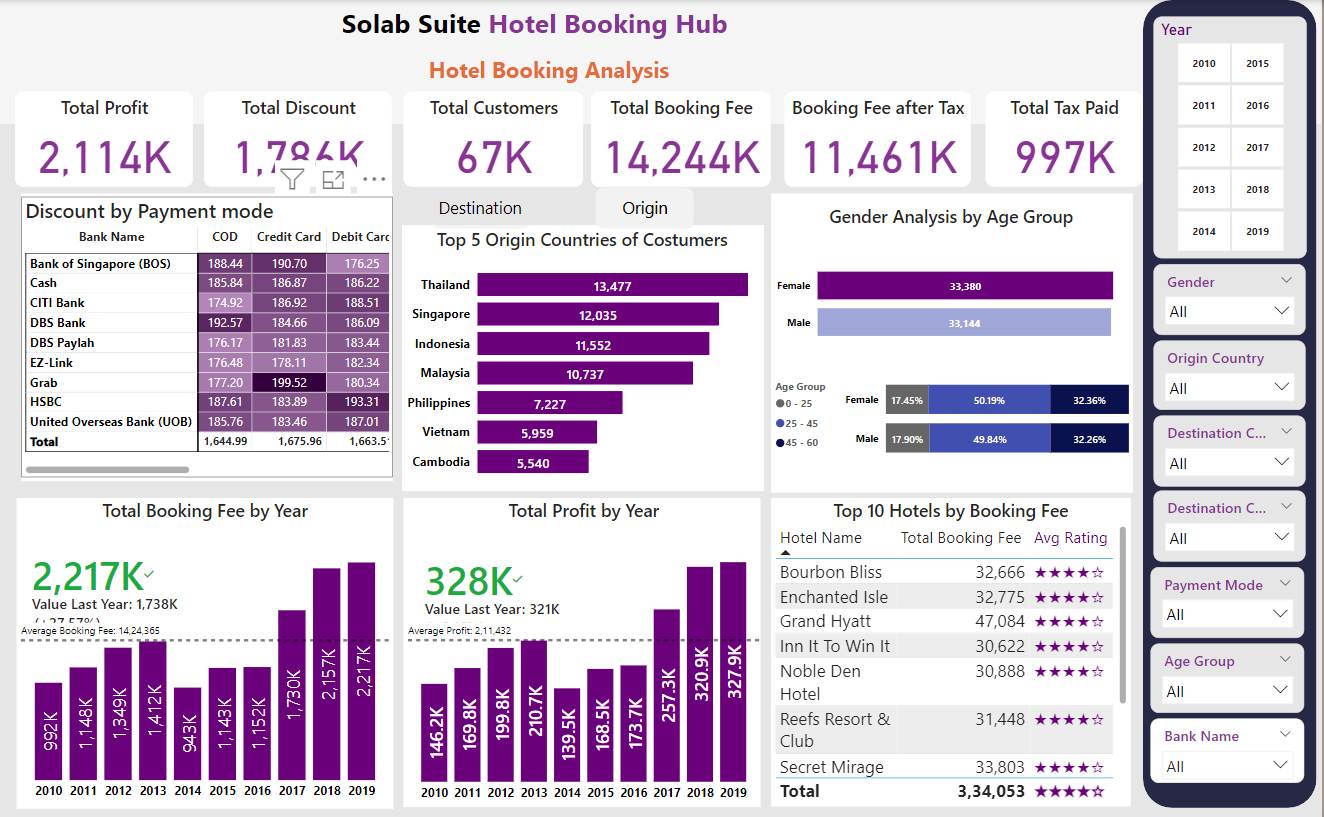

Layout of this report page (visuals, bound fields, positions):
{"tool":"powerbi","page":{"name":"Page 1","canvas":[1600,1000],"ordinal":0},"visuals":[{"type":"shape","box":[0,0,1600,150],"z":0},{"type":"shape","title":"Origin","box":[719.4,226,119,50],"z":0,"group":"g1"},{"type":"textbox","box":[408.3,0,511.8,110.7],"z":1000},{"type":"shape","title":"Origin","box":[720,226,120,50],"z":1000,"group":"g2"},{"type":"card","title":"Total Profit","fields":{"Values":["DAXMeasures.Total Profit"]},"box":[17.5,110,215,115],"z":2000},{"type":"shape","title":"Destination","box":[520,226,120,50],"z":2000,"group":"g2"},{"type":"shape","box":[1382.5,0,210,977.5],"z":3000},{"type":"slicer","fields":{"Values":["Order Database.Gender"]},"box":[1396,320,184,86],"z":4000},{"type":"card","title":"Total Discount","fields":{"Values":["DAXMeasures.Total Discount"]},"box":[247.5,110,227.5,115],"z":5000},{"type":"card","title":"Total Booking Fee","fields":{"Values":["DAXMeasures.Total Booking Fee"]},"box":[715,110,217.5,115],"z":6000},{"type":"card","title":"Booking Fee after Tax","fields":{"Values":["DAXMeasures.Total Booking Fee after Tax"]},"box":[950,110,225,115],"z":7000},{"type":"card","title":"Total Tax Paid","fields":{"Values":["DAXMeasures.Total Tax Paid"]},"box":[1192.5,110,190,115],"z":8000},{"type":"card","title":"Total Customers","fields":{"Values":["DAXMeasures.Total Customers"]},"box":[487.5,110,217.5,115],"z":9000},{"type":"slicer","fields":{"Values":["Order Database.Origin Country"]},"box":[1396,412,184,84],"z":10000},{"type":"slicer","fields":{"Values":["Order Database.Destination Country"]},"box":[1396,502,184,86],"z":11000},{"type":"slicer","fields":{"Values":["Order Database.Age Group"]},"box":[1392,778,186,84],"z":12000},{"type":"slicer","fields":{"Values":["Order Database.Destination City"]},"box":[1396,594,184,86],"z":13000},{"type":"slicer","fields":{"Values":["Order Database.Payment Mode"]},"box":[1392,686,186,86],"z":14000},{"type":"shape","box":[932,234,438,362],"z":15000},{"type":"slicer","title":"Year","fields":{"Values":["Date Table.Date.Variation.Date Hierarchy.Year"]},"box":[1395,20,185,292.5],"z":16000},{"type":"shape","box":[20,602,456,376],"z":17000},{"type":"clusteredColumnChart","fields":{"Category":["Date Table.Date.Variation.Date Hierarchy.Year"],"Y":["DAXMeasures.Total Booking Fee"]},"box":[20,602,456,374],"z":18000},{"type":"shape","box":[488,602,432,374],"z":19000},{"type":"clusteredColumnChart","fields":{"Category":["Date Table.Date.Variation.Date Hierarchy.Year"],"Y":["DAXMeasures.Total Profit"]},"box":[488,602,436,376],"z":20000},{"type":"barChart","title":"Gender Analysis by Age Group","fields":{"Category":["Order Database.Gender"],"Y":["DAXMeasures.Total Customers"]},"box":[932,246,436,206],"z":21000},{"type":"hundredPercentStackedBarChart","fields":{"Category":["Order Database.Gender"],"Y":["DAXMeasures.Total Customers"],"Series":["Order Database.Age Group"]},"box":[932,410,438,186],"z":22000},{"type":"tableEx","title":"Top 10 Hotels by Booking Fee","fields":{"Values":["Order Database.Hotel Name","DAXMeasures.Total Booking Fee","DAXMeasures.Avg Rating star rating"]},"box":[932.1,602.8,435.1,373.3],"z":23000},{"type":"kpi","fields":{"TrendLine":["Date Table.Date.Variation.Date Hierarchy.Year"],"Indicator":["DAXMeasures.Total Booking Fee"],"Goal":["DAXMeasures.Total Booking Fee LY"]},"box":[25.4,653.4,275.9,99.8],"z":24000},{"type":"kpi","fields":{"TrendLine":["Date Table.Date.Variation.Date Hierarchy.Year"],"Indicator":["DAXMeasures.Total Profit"],"Goal":["DAXMeasures.Profit LY"]},"box":[500,658,250,94],"z":25000},{"type":"group","id":"g1","title":"Active Buttons","box":[520,226,318.4,50.2],"z":28000},{"type":"shape","title":"Main BG","box":[486,272,438,322],"z":29000},{"type":"group","id":"g2","title":"Inactive Buttons","box":[520,226,320,50],"z":30000},{"type":"barChart","title":"Top 5 Origin Countries of Costumers","fields":{"Category":["Order Database.Origin Country"],"Y":["DAXMeasures.Total Customers"]},"box":[486,274,436,318],"z":31000},{"type":"shape","title":"MAIN BG","box":[26,234,450,348],"z":33000},{"type":"pivotTable","title":"Discount by Payment mode ","fields":{"Columns":["Order Database.Payment Mode"],"Values":["Sum(Order Database.Discount)"],"Rows":["Order Database.Bank Name"]},"box":[26,238,450,340],"z":35000},{"type":"slicer","fields":{"Values":["Order Database.Bank Name"]},"box":[1392,870,186,78],"z":36000}]}

Visuals, with their boxes in screenshot pixels (x1, y1, x2, y2), scaled from the page's 1600x1000 canvas onto the 1324x817 screenshot:
shape: 0, 0, 1323, 123
"Origin" shape: 595, 185, 694, 225
textbox: 338, 0, 761, 90
"Origin" shape: 596, 185, 695, 225
"Total Profit" card: 14, 90, 192, 184
"Destination" shape: 430, 185, 530, 225
shape: 1144, 0, 1318, 799
slicer - Order Database.Gender: 1155, 261, 1307, 332
"Total Discount" card: 205, 90, 393, 184
"Total Booking Fee" card: 592, 90, 772, 184
"Booking Fee after Tax" card: 786, 90, 972, 184
"Total Tax Paid" card: 987, 90, 1144, 184
"Total Customers" card: 403, 90, 583, 184
slicer - Order Database.Origin Country: 1155, 337, 1307, 405
slicer - Order Database.Destination Country: 1155, 410, 1307, 480
slicer - Order Database.Age Group: 1152, 636, 1306, 704
slicer - Order Database.Destination City: 1155, 485, 1307, 556
slicer - Order Database.Payment Mode: 1152, 560, 1306, 631
shape: 771, 191, 1134, 487
"Year" slicer: 1154, 16, 1307, 255
shape: 17, 492, 394, 799
clusteredColumnChart - Date Table.Date.Variation.Date Hierarchy.Year x DAXMeasures.Total Booking Fee: 17, 492, 394, 797
shape: 404, 492, 761, 797
clusteredColumnChart - Date Table.Date.Variation.Date Hierarchy.Year x DAXMeasures.Total Profit: 404, 492, 765, 799
"Gender Analysis by Age Group" barChart: 771, 201, 1132, 369
hundredPercentStackedBarChart - Order Database.Gender x DAXMeasures.Total Customers: 771, 335, 1134, 487
"Top 10 Hotels by Booking Fee" tableEx: 771, 492, 1131, 797
kpi - Date Table.Date.Variation.Date Hierarchy.Year x DAXMeasures.Total Booking Fee: 21, 534, 249, 615
kpi - Date Table.Date.Variation.Date Hierarchy.Year x DAXMeasures.Total Profit: 414, 538, 621, 614
"Active Buttons" group: 430, 185, 694, 226
"Main BG" shape: 402, 222, 765, 485
"Inactive Buttons" group: 430, 185, 695, 225
"Top 5 Origin Countries of Costumers" barChart: 402, 224, 763, 484
"MAIN BG" shape: 22, 191, 394, 475
"Discount by Payment mode " pivotTable: 22, 194, 394, 472
slicer - Order Database.Bank Name: 1152, 711, 1306, 775
